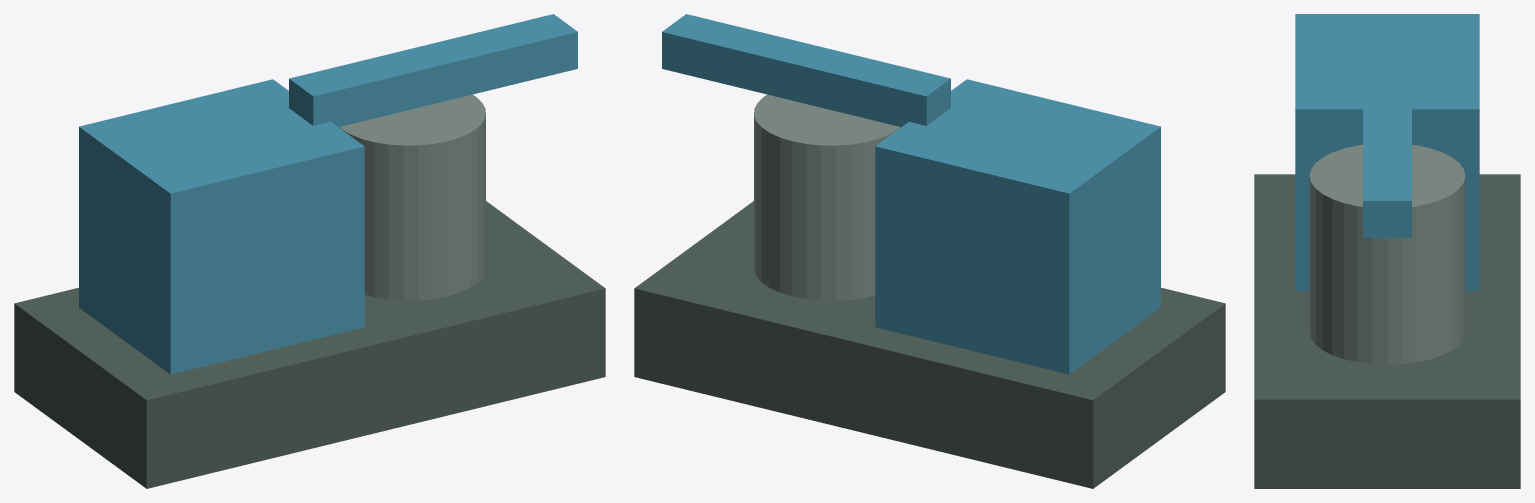
Rendered from pump_skid_concept.obj.
The picture shows the model from 3 angles, left to right: view 1: azimuth 30°, elevation 25°; view 2: azimuth 150°, elevation 25°; view 3: azimuth 270°, elevation 25°; orthographic projection.
Parts seen in each view (by area): view 1: skid, pump_motor, pump_housing, manifold; view 2: skid, pump_motor, pump_housing, manifold; view 3: skid, pump_housing, pump_motor, manifold.
Part boxes in pixels (left/top/right/bottom): skid: left=14, top=201, right=605, bottom=488; pump_motor: left=79, top=79, right=364, bottom=374; pump_housing: left=339, top=94, right=485, bottom=300; manifold: left=289, top=14, right=577, bottom=127; skid: left=634, top=201, right=1225, bottom=488; pump_motor: left=875, top=79, right=1160, bottom=374; pump_housing: left=754, top=94, right=900, bottom=300; manifold: left=662, top=14, right=950, bottom=127; skid: left=1254, top=174, right=1520, bottom=488; pump_housing: left=1309, top=144, right=1465, bottom=364; pump_motor: left=1295, top=14, right=1479, bottom=291; manifold: left=1363, top=71, right=1411, bottom=237.
Bounding box in the file's own units: 1.38 × 0.81 × 0.65.
